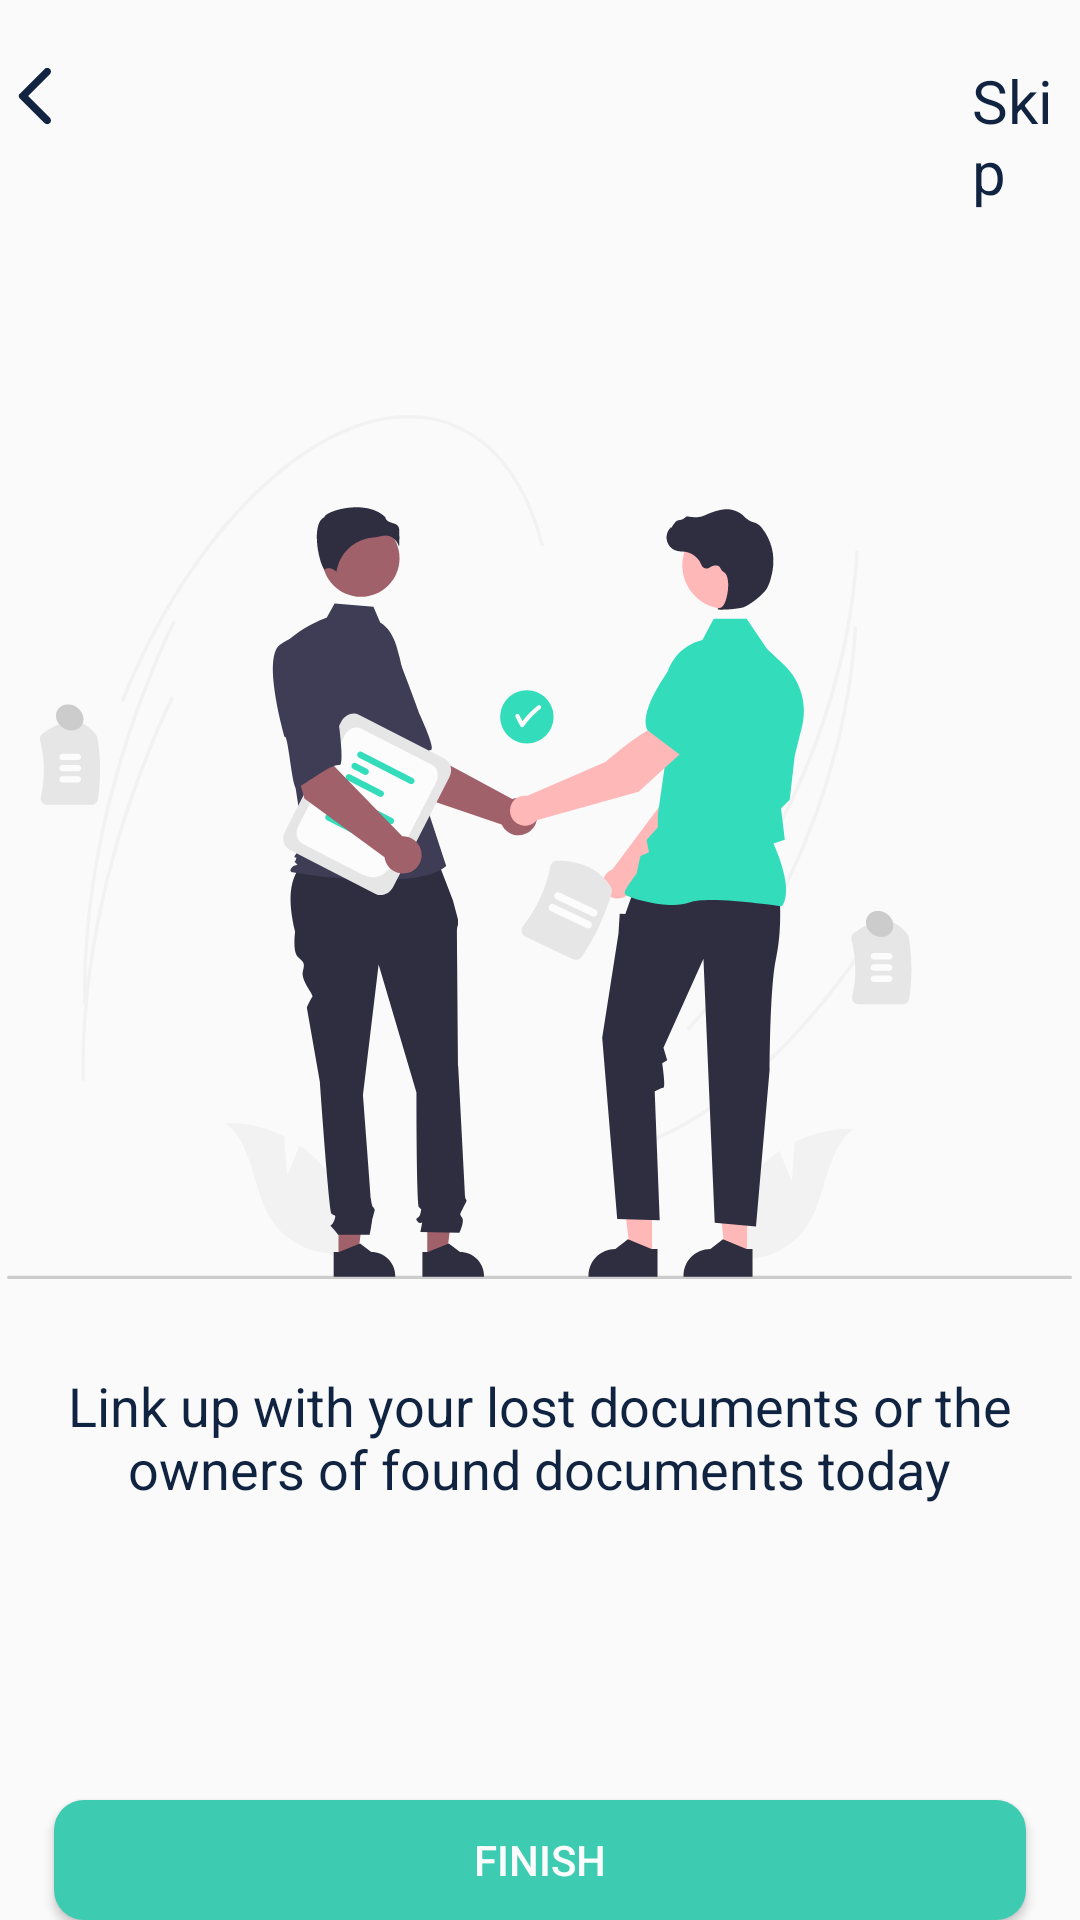

Screen size 1080x1920. Icon name, then its box in pixels as [x1,y1,x2,y2]:
back: [18,68,51,125]
